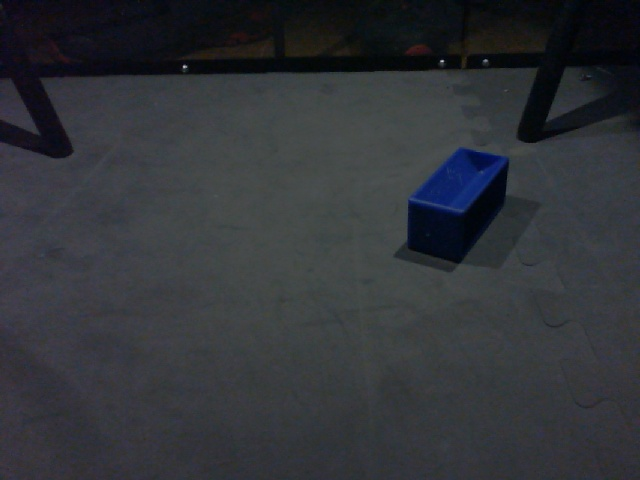BlueSample: (405, 146, 514, 267)
